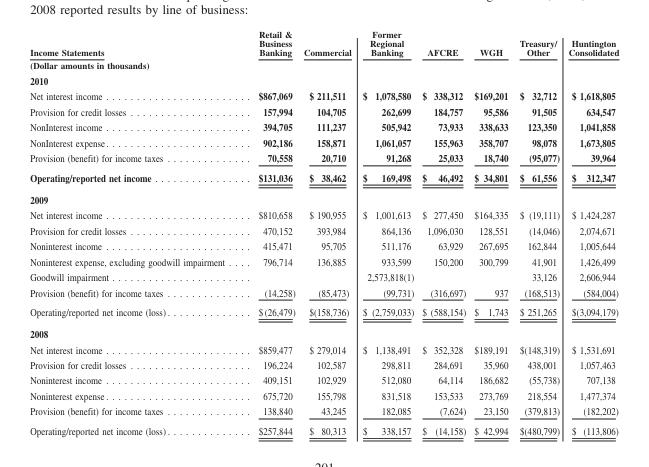table: (29, 28, 618, 436)
table column: (29, 28, 240, 436), (356, 28, 417, 436), (240, 28, 298, 436), (298, 28, 356, 436), (563, 28, 618, 436), (417, 28, 469, 436), (513, 28, 563, 436), (469, 28, 513, 436)
table column header: (29, 28, 618, 58)
table projected row header: (29, 187, 618, 206), (29, 322, 618, 341), (29, 72, 618, 87), (29, 58, 618, 72)
table row: (29, 28, 618, 58), (29, 301, 618, 322), (29, 167, 618, 187), (29, 187, 618, 206), (29, 322, 618, 341), (29, 149, 618, 167), (29, 284, 618, 301), (29, 403, 618, 420), (29, 87, 618, 103), (29, 118, 618, 134), (29, 206, 618, 222), (29, 237, 618, 253), (29, 268, 618, 284), (29, 356, 618, 372), (29, 387, 618, 403), (29, 420, 618, 436), (29, 72, 618, 87), (29, 103, 618, 118), (29, 134, 618, 149), (29, 222, 618, 237), (29, 253, 618, 268), (29, 341, 618, 356), (29, 372, 618, 387), (29, 58, 618, 72)
